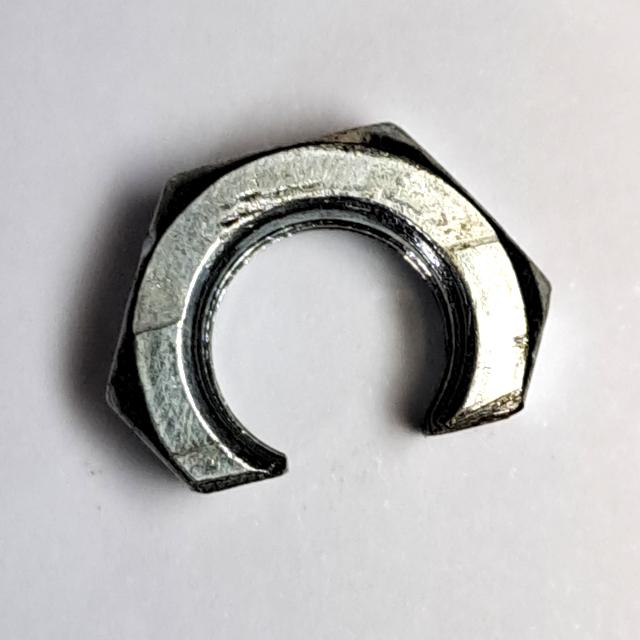Fracture: (87, 109, 566, 517)
